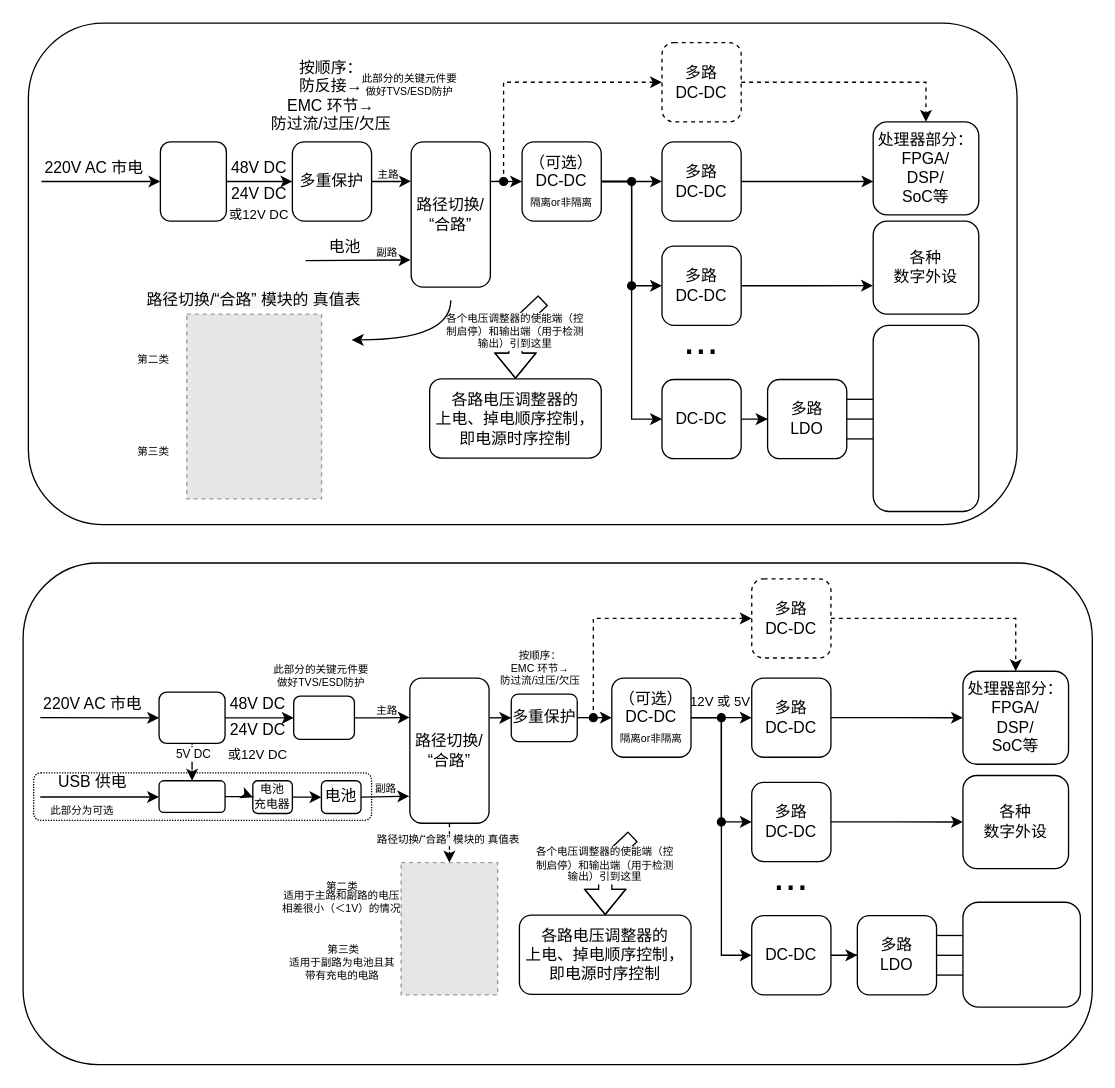
Image size: 1115x1088. Some labels were removed from this diagram. Grey dashed boxes stand in for pictures. The shapes that lost their labels are listed below. From the top down, each one's centre as x and y in pixels, then its label:
At point (192, 181): "AC-DC".
At point (925, 418): "模拟部分： 如运放、ADC/DAC、 等".
At point (191, 717): "AC-DC/ 适配器".
At point (323, 717): "防反接".
At point (191, 795): "USB 5V".
At point (1021, 954): "模拟部分： 如运放、ADC/DAC 等".
